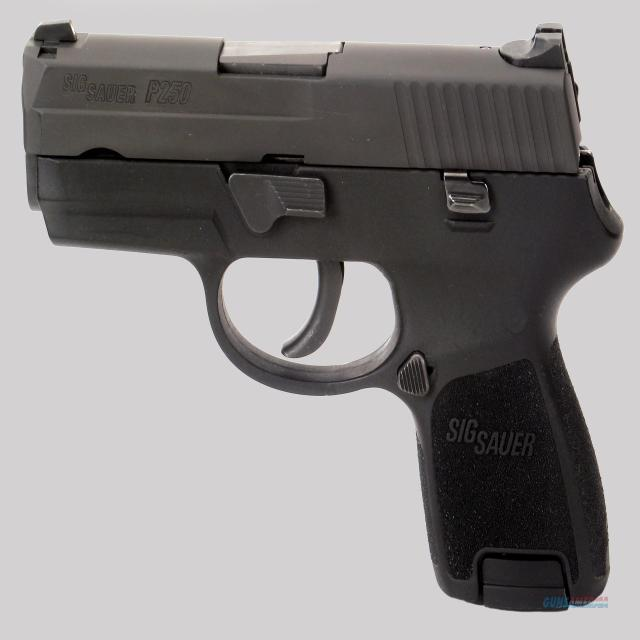Pistol: (18, 4, 640, 631)
